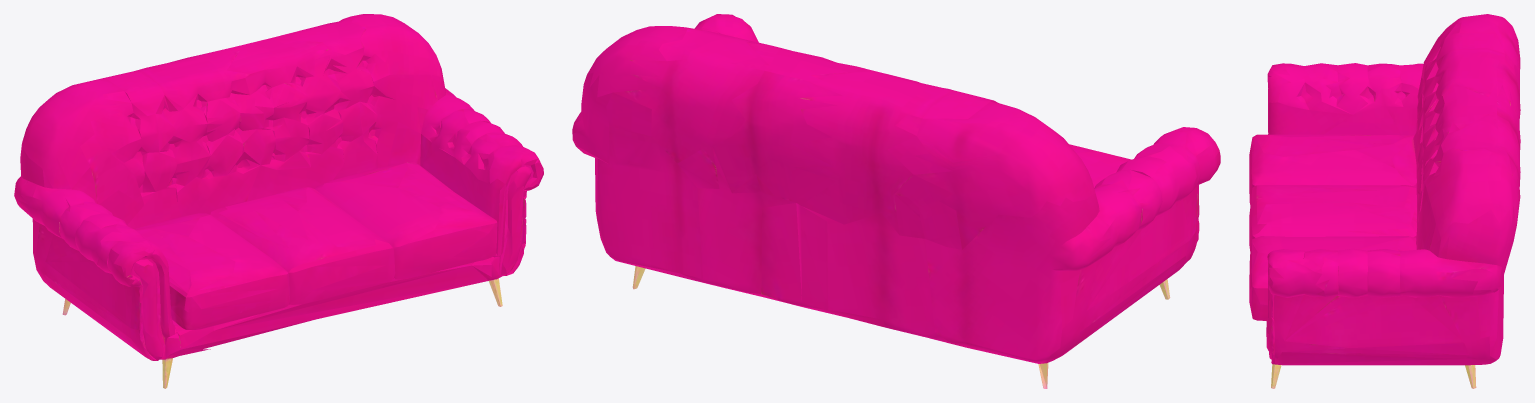
The model's file is sofa.glb.
3 renders of one model, left to right at view 1: azimuth 30°, elevation 25°; view 2: azimuth 150°, elevation 25°; view 3: azimuth 270°, elevation 25°, orthographic. The views are drawn at different scales.
Size of the model in its own units: 1.9 by 0.9285 by 1.04.
Materials: 1 (1 with a texture image).
